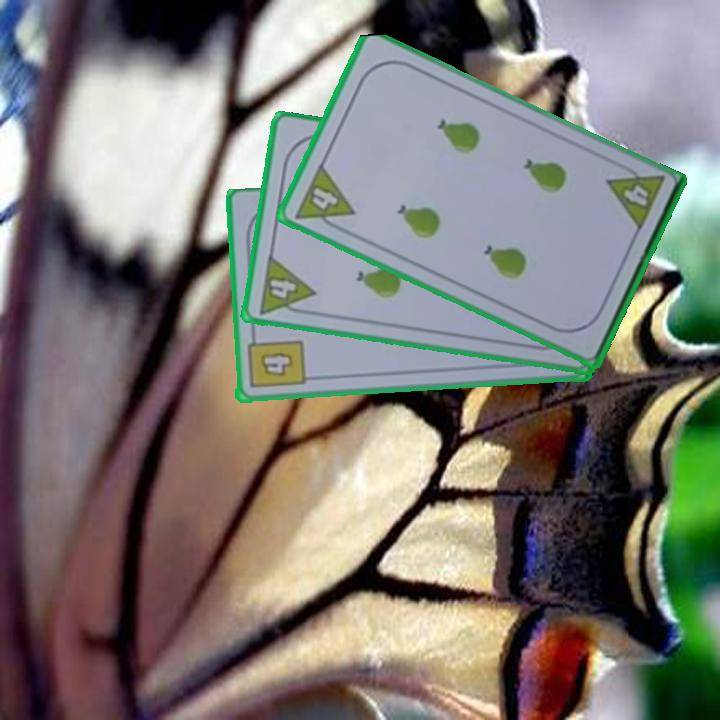4b: (243, 329, 307, 391)
4p: (291, 160, 357, 237), (603, 158, 667, 235), (255, 252, 318, 319)
